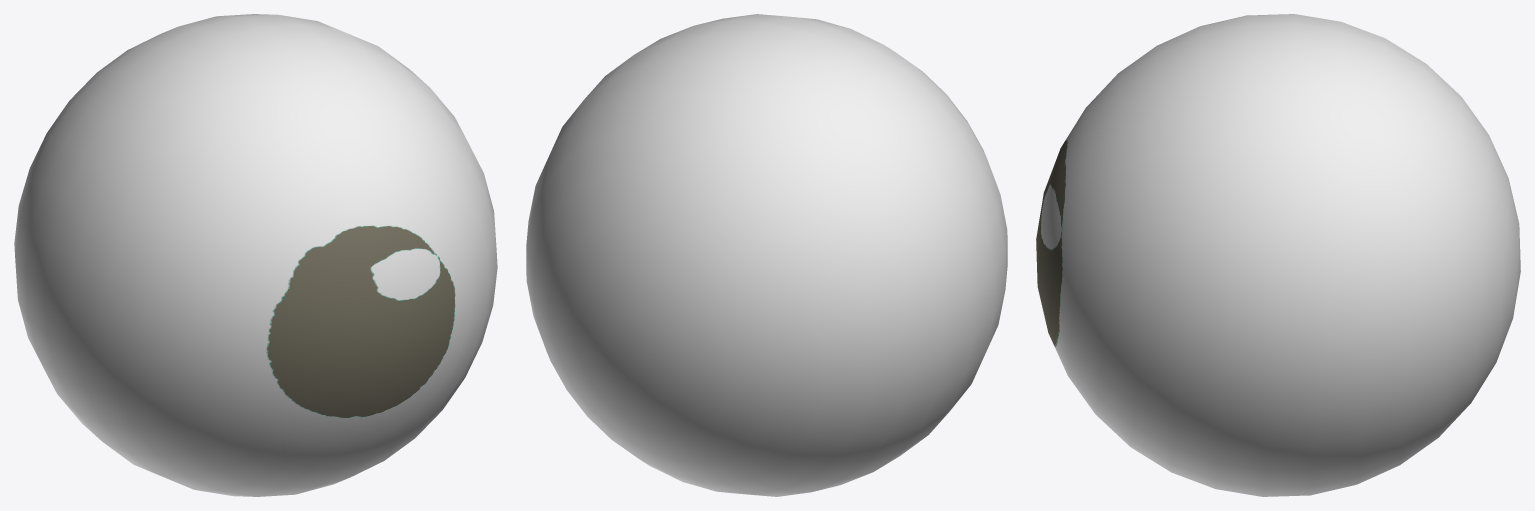
The model's file is MobMiniV4.glb.
The picture shows the model from 3 angles, left to right: view 1: azimuth 30°, elevation 25°; view 2: azimuth 150°, elevation 25°; view 3: azimuth 270°, elevation 25°; orthographic projection.
Parts seen in each view (by area): view 1: eye; view 2: eye; view 3: eye.
Boxes of the visible parts, left/top/right/bottom form: eye: left=14, top=14, right=497, bottom=496; eye: left=526, top=14, right=1007, bottom=496; eye: left=1036, top=14, right=1520, bottom=496.
Bounding box in the file's own units: 0.5373 × 0.5362 × 0.5373.
2 materials, 2 textured.
